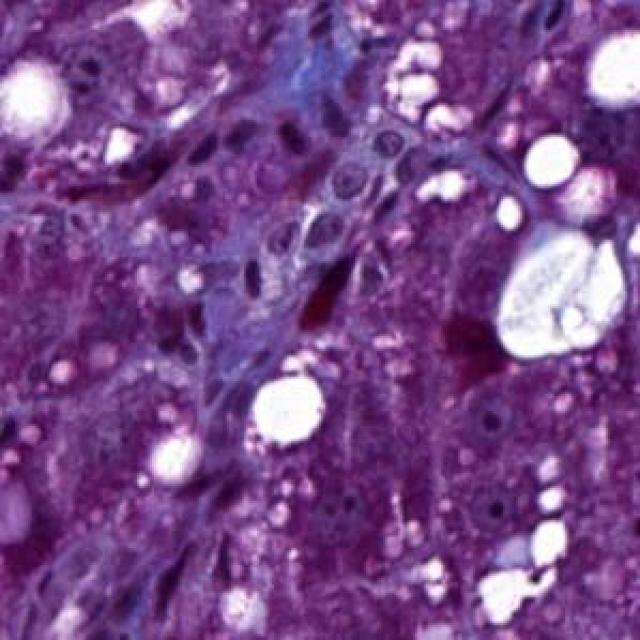ballooning: (492, 227, 632, 364)
